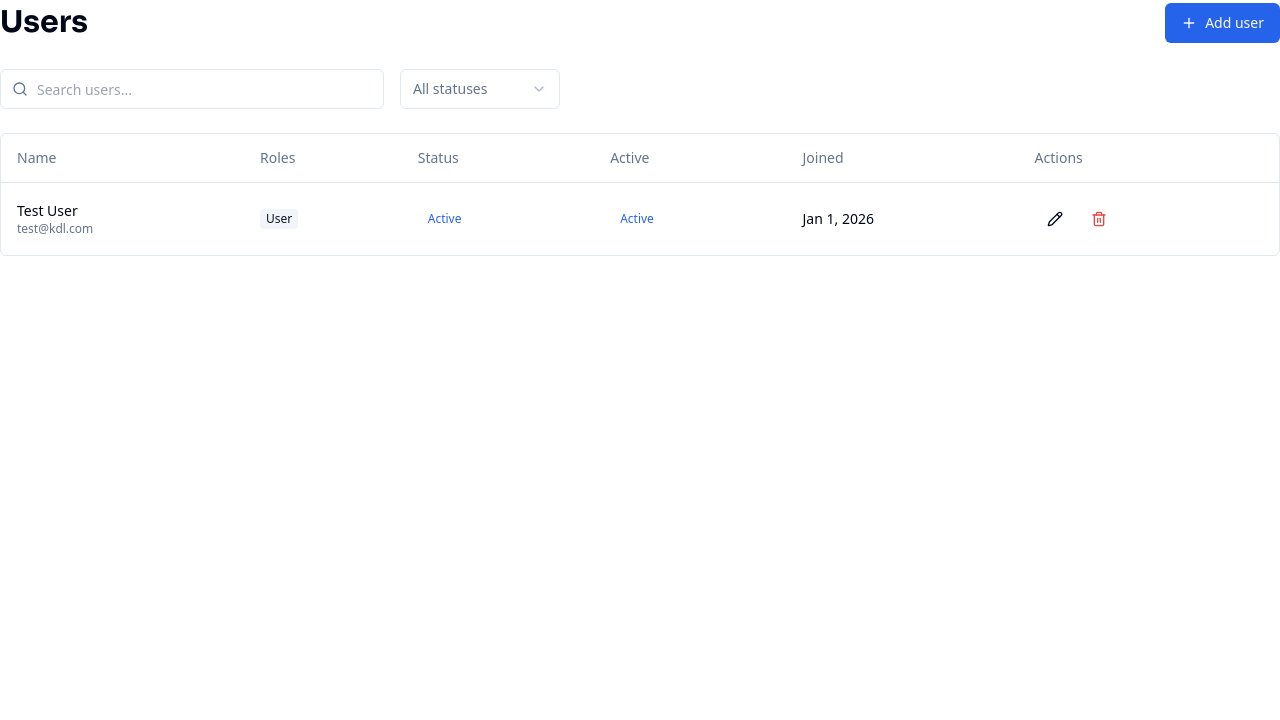
it: UsersPage regression — SUPER_ADMIN role option gating (KDL-20 H4) › hides SUPER_ADMIN role option for non-super admin users
Expected: the text "Test User" is shown, x1=17 y1=200 x2=78 y2=220
Click the button named "edit test user". click: click(1055, 218)
box: x1=1035 y1=198 x2=1075 y2=238
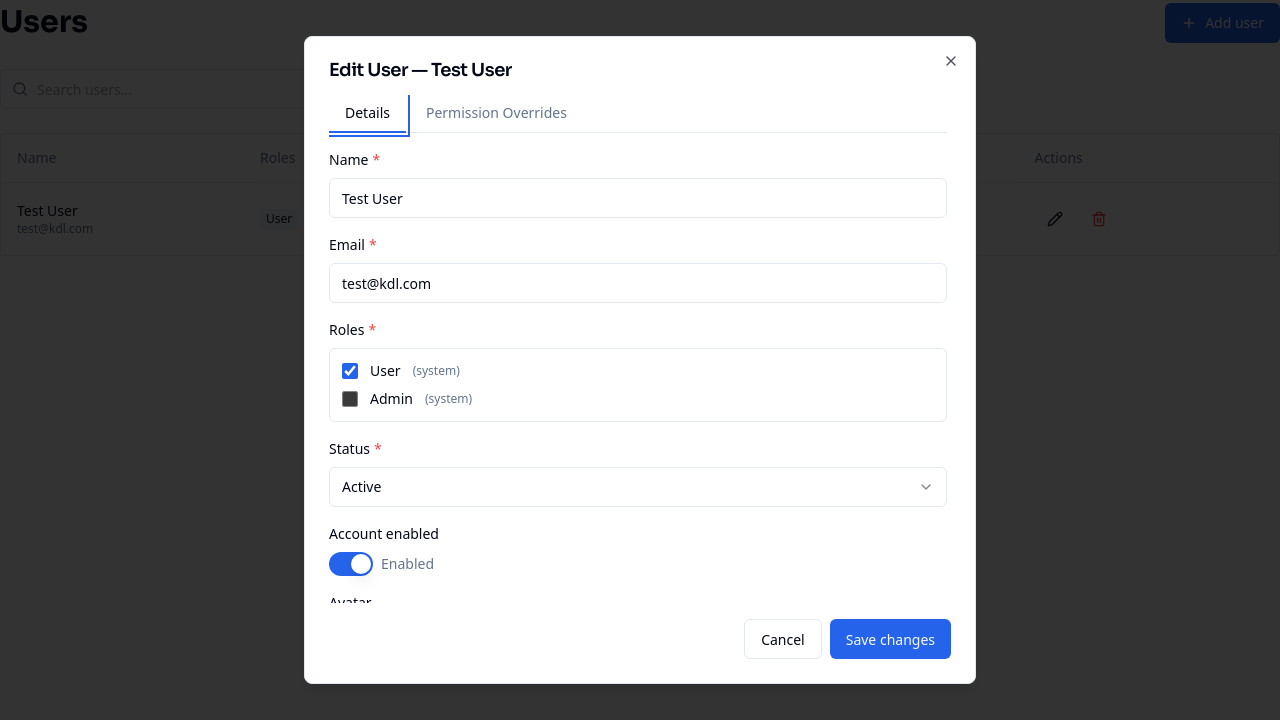
Now the dialog is shown, box x1=304 y1=36 x2=976 y2=684
Now the text "User" is shown, box x1=370 y1=361 x2=401 y2=381
Now the text "Admin" is shown, box x1=370 y1=389 x2=413 y2=409
